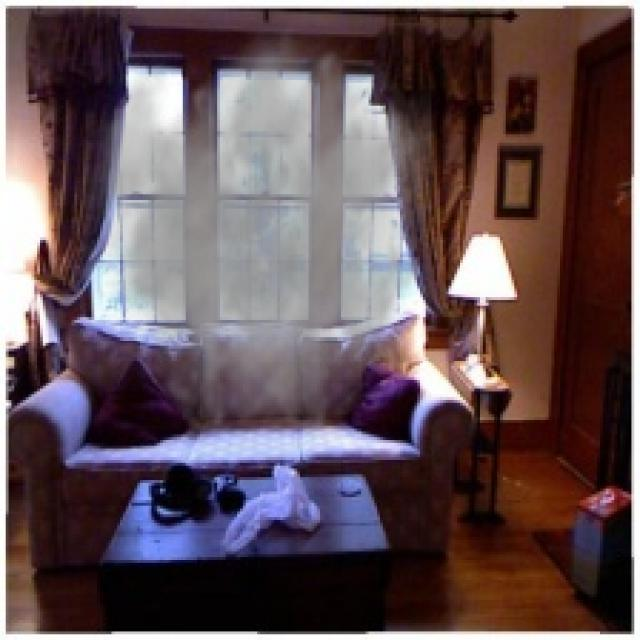Smoke: (66, 17, 432, 443)
